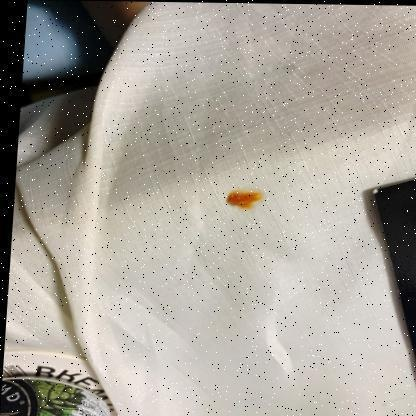kimchi: (225, 187, 269, 213)
